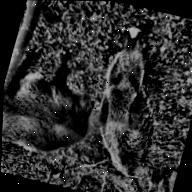boar: (81, 23, 180, 181), (1, 36, 108, 163)
